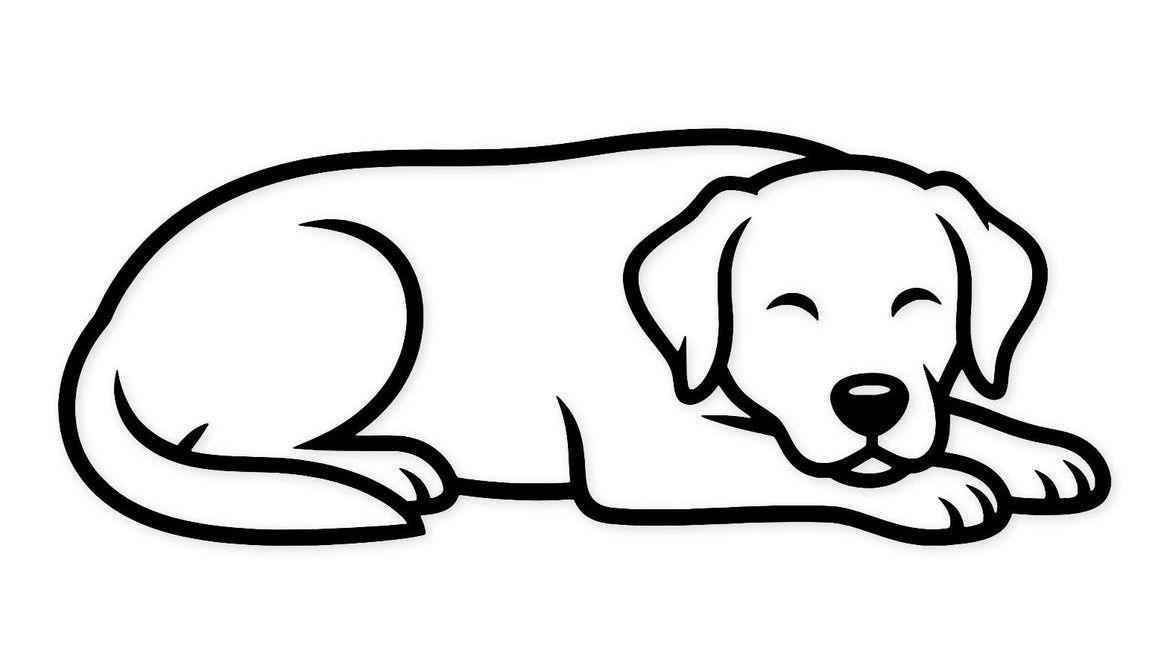puppy-dog: (55, 128, 1116, 548)
